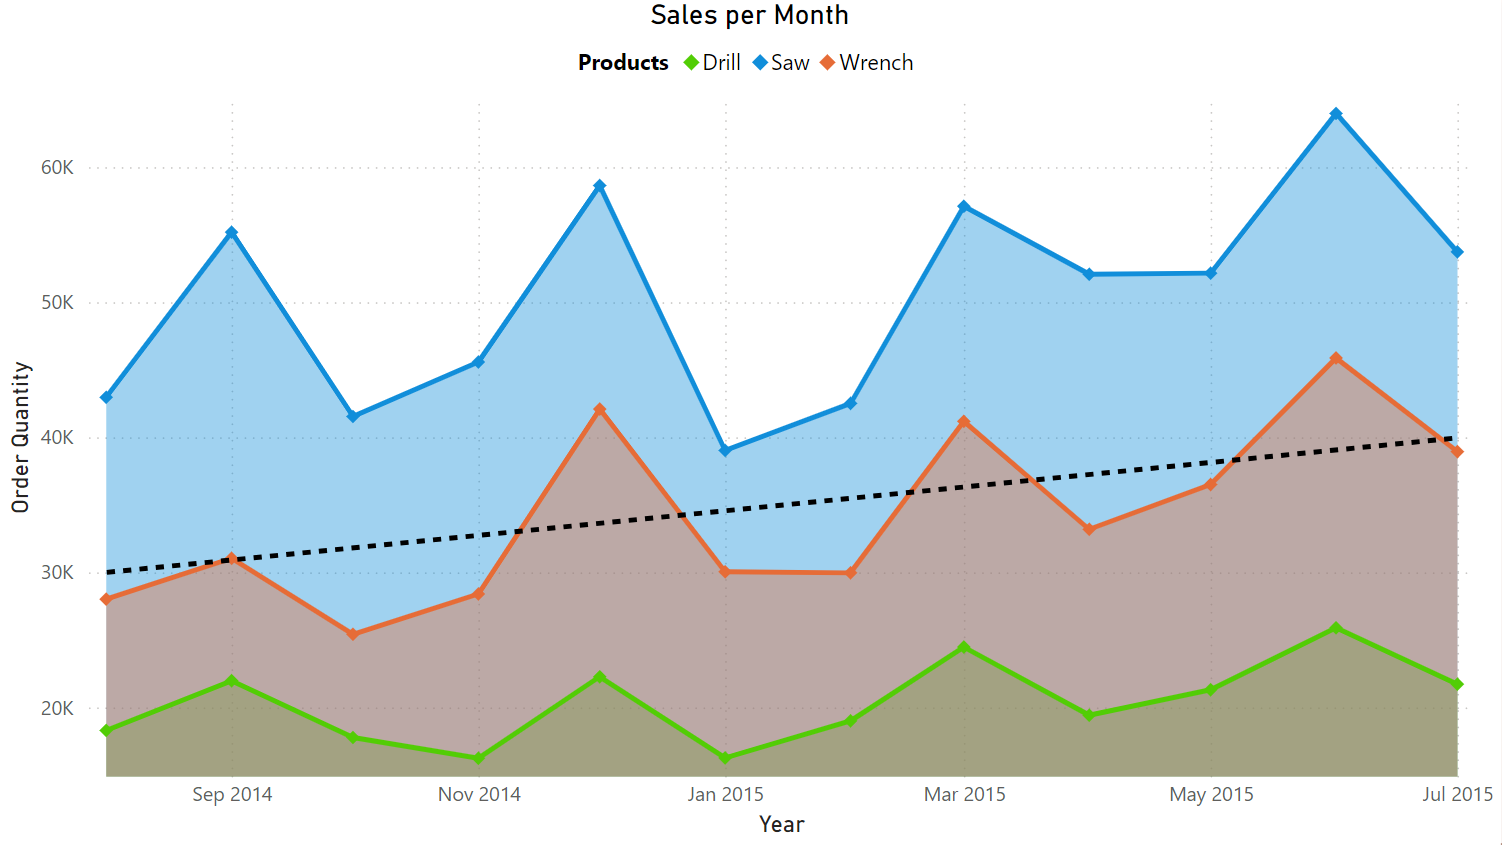

The page's visual inventory and layout, read from the dashboard file:
{"tool":"powerbi","page":{"name":"Sales per Month","canvas":[1280,720],"ordinal":1},"visuals":[{"type":"shape","box":[172.5,93.1,935,533.8],"z":0},{"type":"shape","box":[490,4.9,300.2,51.9],"z":1000},{"type":"lineChart","title":"Sales per Month","fields":{"Series":["Product_info.Product Desc"],"Category":["monthly_product_purchases.Year-Month.Variation.Date Hierarchy.Year","monthly_product_purchases.Year-Month.Variation.Date Hierarchy.Month"],"Y":["Sum(monthly_product_purchases.Order Qty)"]},"box":[181.3,102.2,917.5,517.4],"z":2000},{"type":"textbox","box":[499.1,14,281.9,34.2],"z":3000}]}

Visuals, with their boxes in screenshot pixels (x1, y1, x2, y2), scaled from the page's 1280x720 canvas onto the 1502x845 screenshot:
shape: 202:109:1300:736
shape: 575:6:927:67
"Sales per Month" lineChart: 213:120:1289:727
textbox: 586:16:916:57
